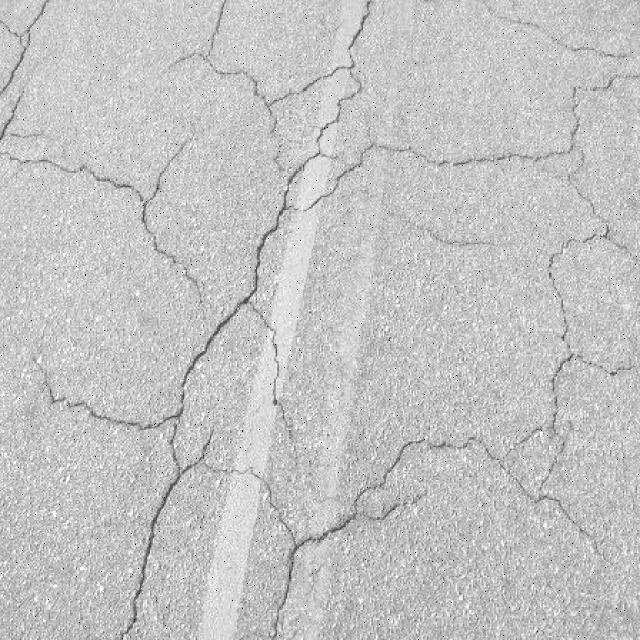Crack: (35, 144, 640, 640), (0, 98, 206, 318), (169, 4, 369, 197), (524, 74, 632, 181), (361, 182, 511, 250), (482, 2, 628, 62), (0, 5, 44, 99), (285, 142, 340, 196)
